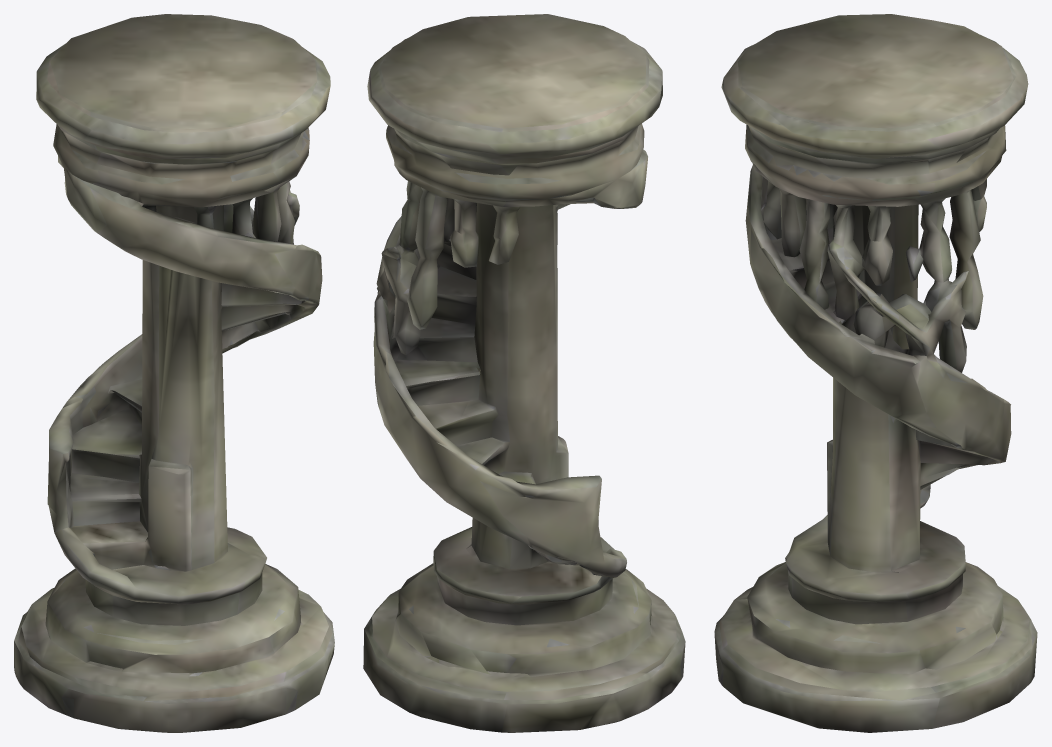
The model's file is ornate-limestone-spiral-staircase-v001.glb.
3 views of the same model, side by side, from view 1: azimuth 30°, elevation 25°; view 2: azimuth 150°, elevation 25°; view 3: azimuth 270°, elevation 25° (orthographic).
Parts seen in each view (by area): view 1: ornate-limestone-spiral-staircase; view 2: ornate-limestone-spiral-staircase; view 3: ornate-limestone-spiral-staircase.
Boxes of the visible parts, left/top/right/bottom form: ornate-limestone-spiral-staircase: left=14, top=14, right=334, bottom=732; ornate-limestone-spiral-staircase: left=363, top=14, right=685, bottom=732; ornate-limestone-spiral-staircase: left=714, top=14, right=1037, bottom=732.
Size of the model in its own units: 1.4 by 2.85 by 1.39.
1 material, 1 textured.
